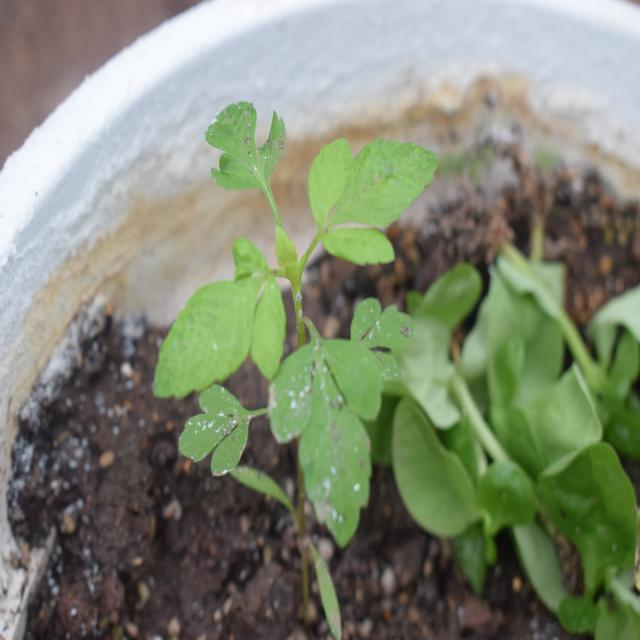Bidens pilosa: (163, 88, 424, 537)
